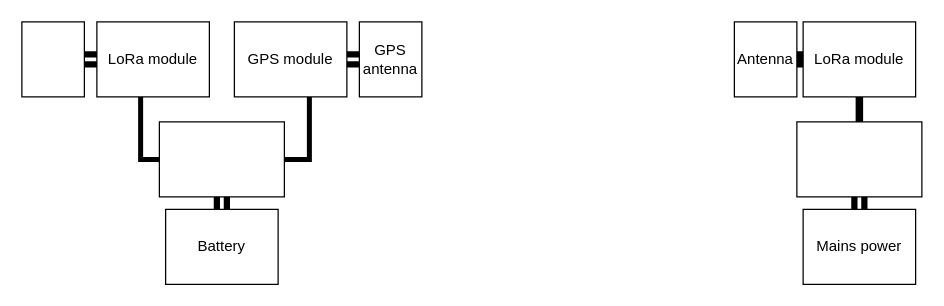
Some shapes in this 944 by 306 pixel diagram are drawn without their labels. Here are the shapes that lost their labels. From the top down, the box of each, then its label:
(21, 21, 84, 97): Lora antenna
(158, 121, 284, 197): Microcontroller
(796, 121, 922, 197): SBC
